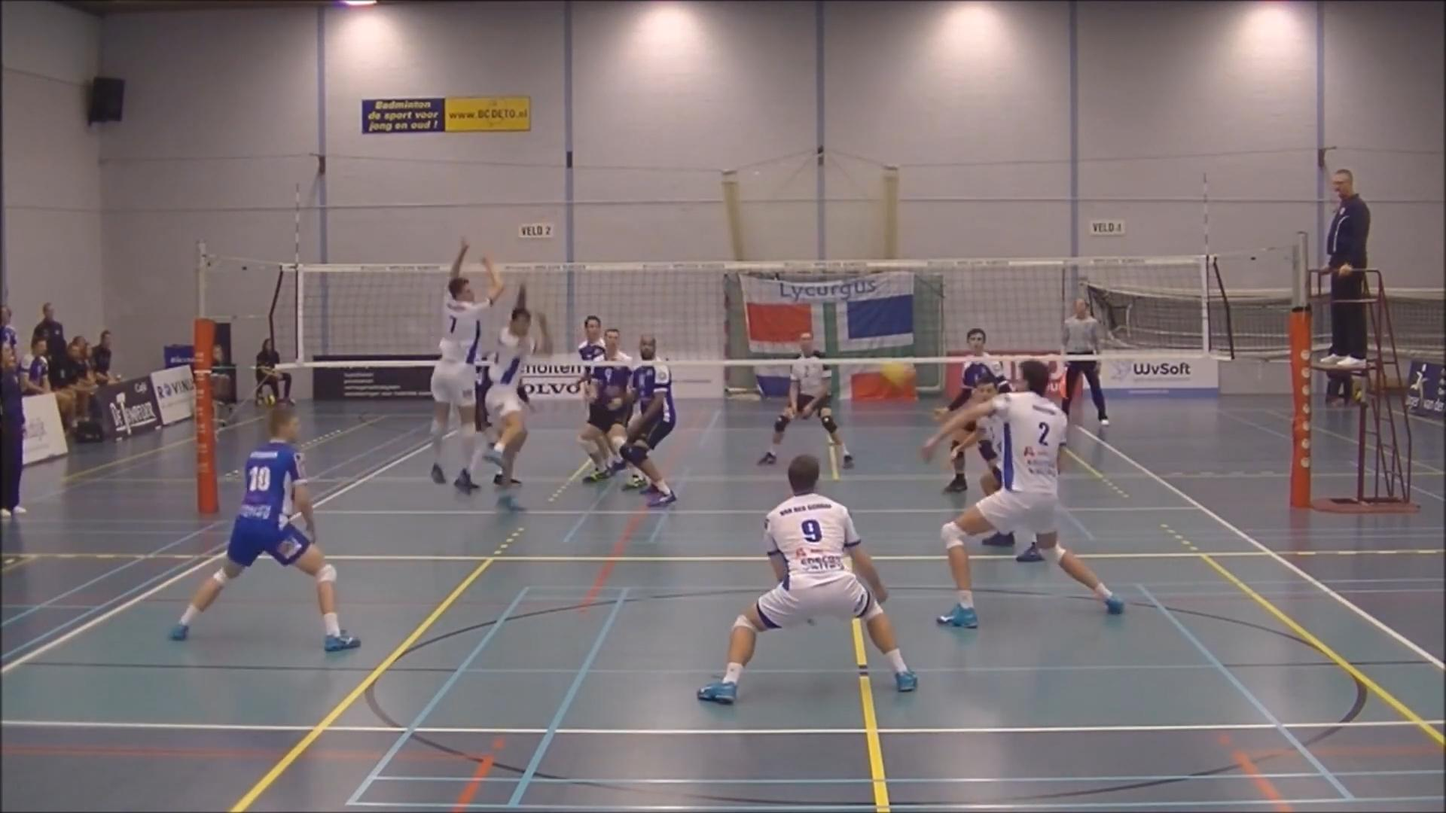difesa: (920, 357, 1136, 631)
muro: (405, 230, 520, 497)
